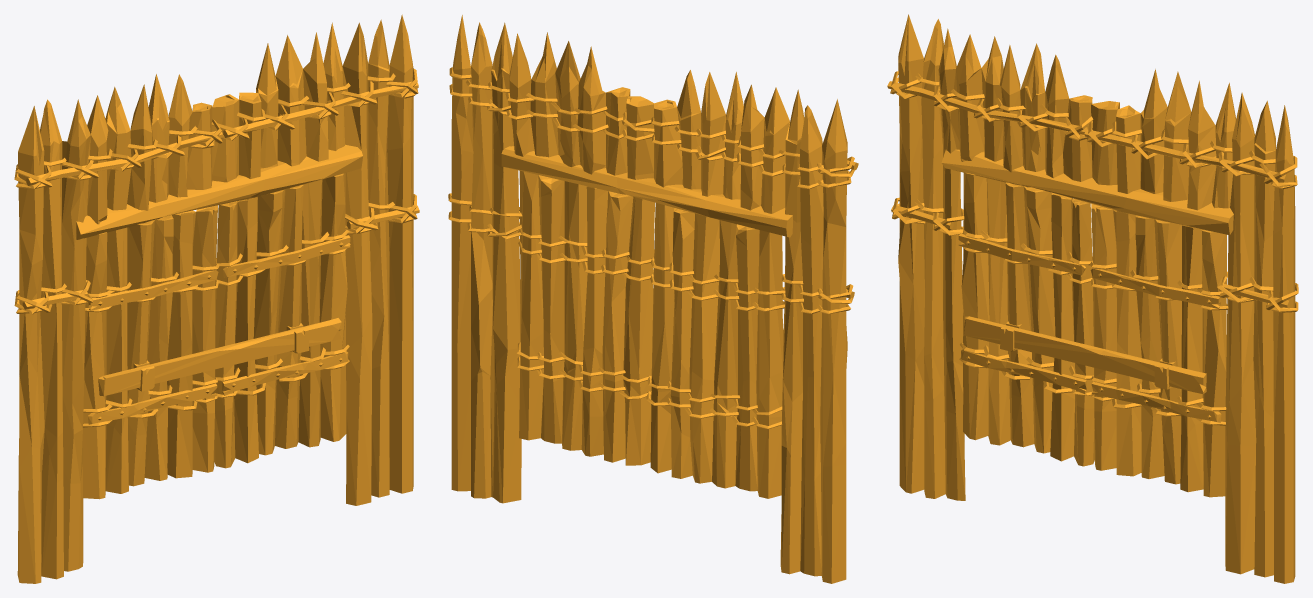
Rendered from SM_Palisade_Gate_A.fbx.
3 views of the same model, side by side, from view 1: azimuth 30°, elevation 25°; view 2: azimuth 150°, elevation 25°; view 3: azimuth 330°, elevation 25° (orthographic).
Parts seen in each view (by area): view 1: palisade-gate-a-base, palisade-gate-a-door-l, palisade-gate-a-door-r, gate-latch; view 2: palisade-gate-a-base, palisade-gate-a-door-r, palisade-gate-a-door-l; view 3: palisade-gate-a-base, palisade-gate-a-door-r, palisade-gate-a-door-l, gate-latch.
Boxes of the visible parts, box(x1,y1,x2,y2) form: palisade-gate-a-base: box(14, 14, 419, 583); palisade-gate-a-door-l: box(83, 205, 219, 499); palisade-gate-a-door-r: box(214, 173, 350, 468); gate-latch: box(98, 318, 341, 396); palisade-gate-a-base: box(448, 15, 858, 583); palisade-gate-a-door-r: box(516, 170, 654, 465); palisade-gate-a-door-l: box(646, 203, 785, 498); palisade-gate-a-base: box(887, 14, 1298, 583); palisade-gate-a-door-r: box(1090, 204, 1228, 497); palisade-gate-a-door-l: box(958, 173, 1094, 466); gate-latch: box(964, 316, 1206, 394).
Bounding box in the file's own units: 6.14 × 6.95 × 0.7983.
